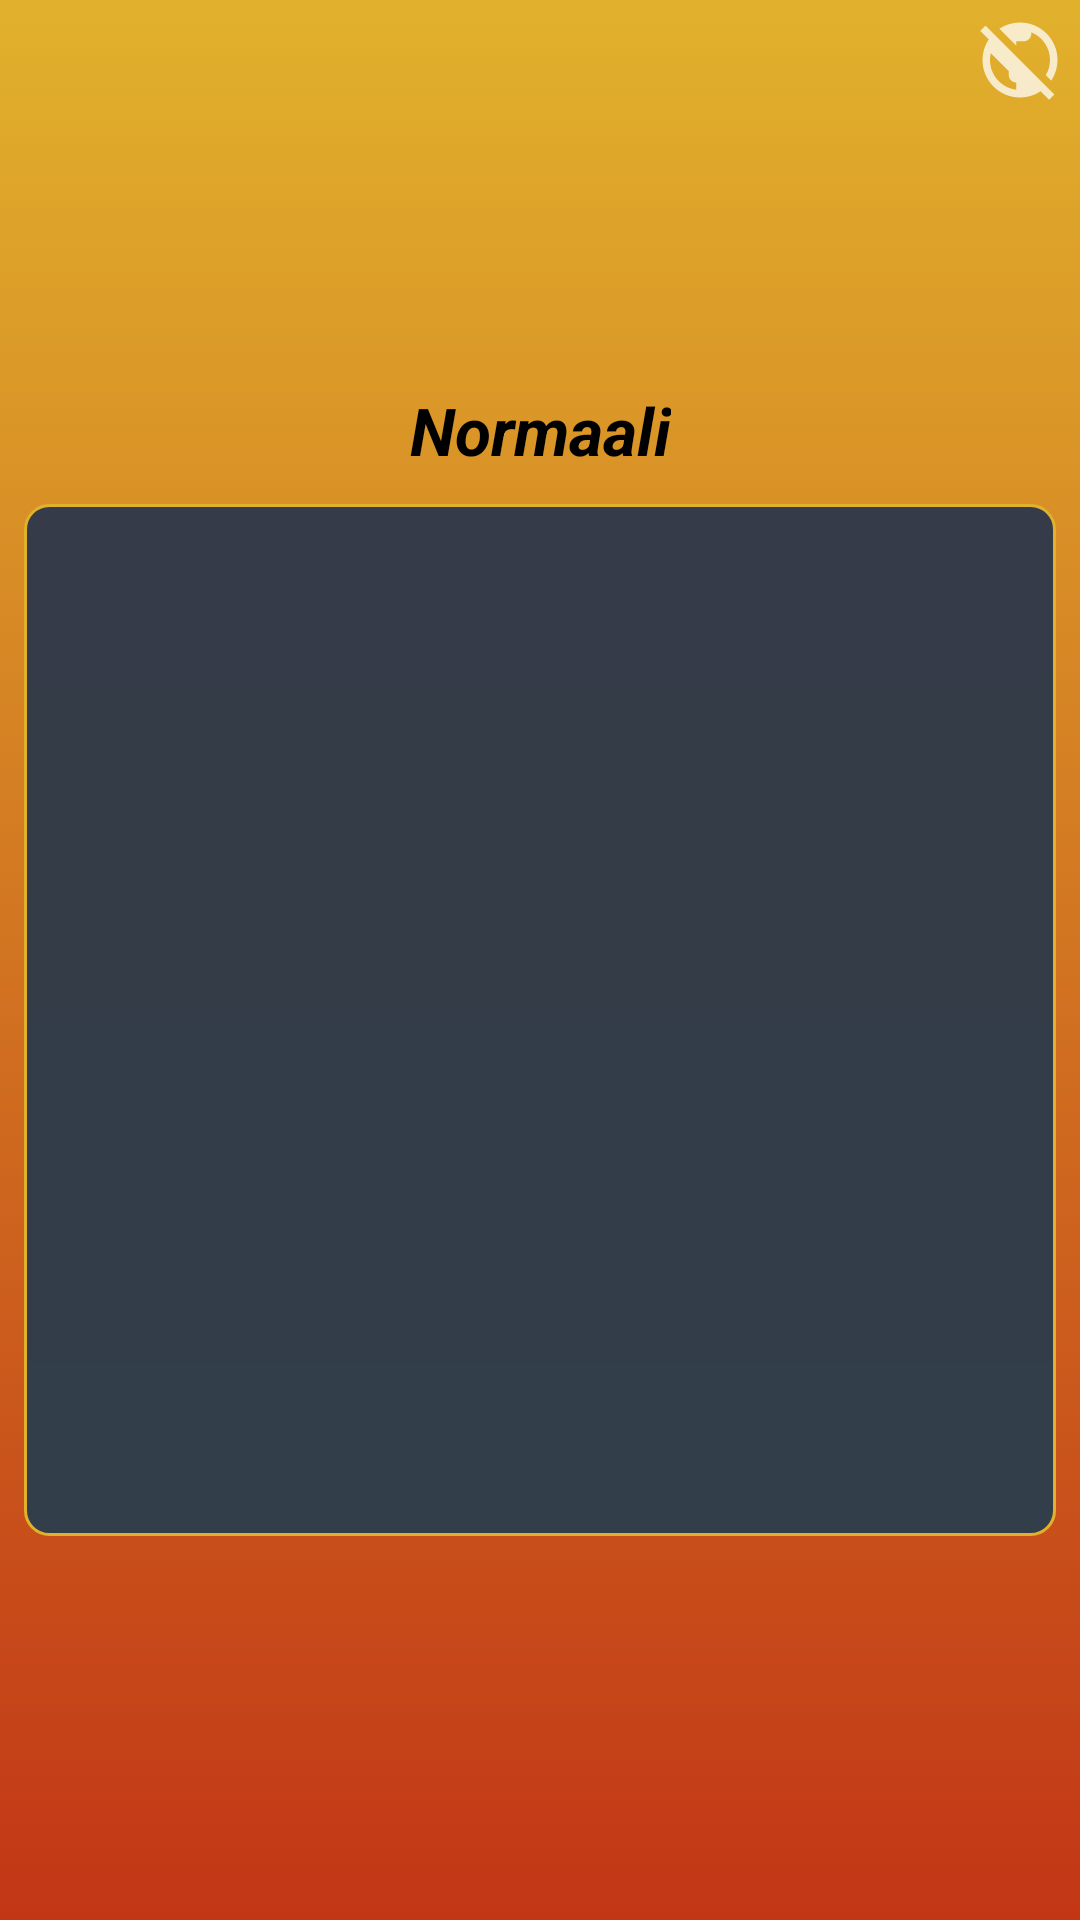

Locate icon controls on the screen. Image size 1080x1920, boxes as (x1, y1, x2, y2).
public off: (980, 22, 1058, 100)
